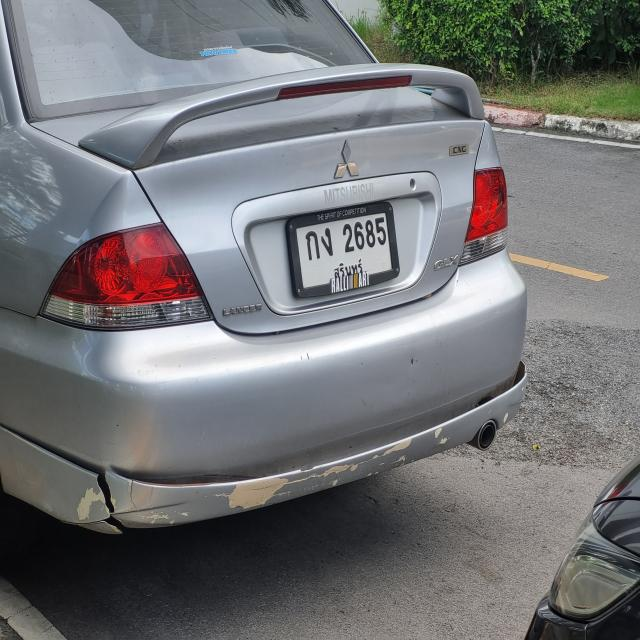license_plate: (284, 197, 402, 303)
